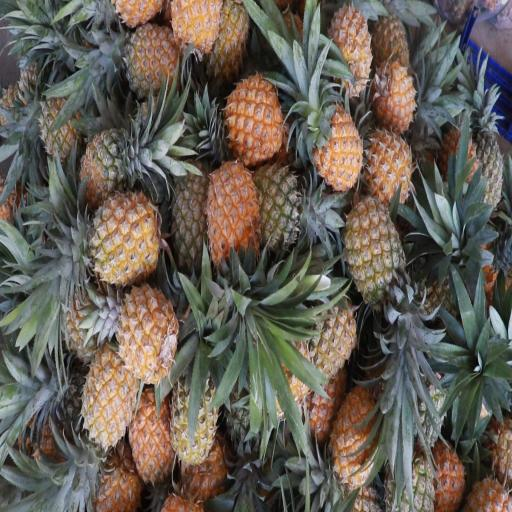------------------------------: (340, 194, 405, 323), (164, 344, 217, 468), (64, 118, 138, 202), (246, 156, 307, 252), (117, 24, 184, 102)
Pineapple - v8 v1: (72, 187, 166, 290), (200, 150, 263, 280), (110, 273, 180, 385), (76, 329, 135, 451), (328, 382, 388, 499), (298, 286, 365, 383), (221, 64, 281, 172), (304, 96, 369, 193), (356, 108, 413, 205), (124, 382, 175, 484), (320, 0, 378, 89), (364, 46, 417, 129), (169, 0, 225, 78)
